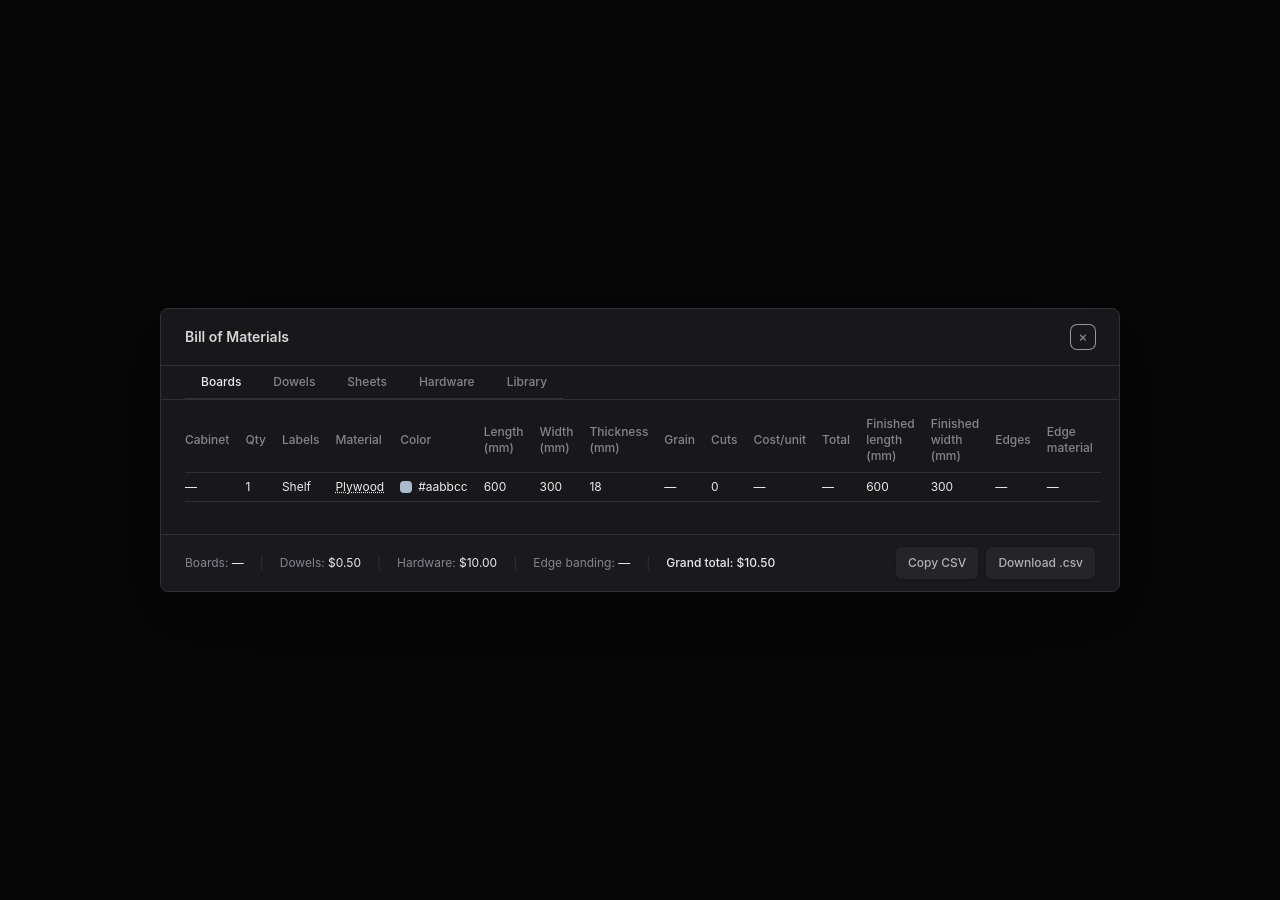
BomModal › merges rates field-level so a library costPerM is not shadowed by a scene costPerM2
Step 1. Click the tab "Dowels" → (294, 383), box [257,366,331,400]
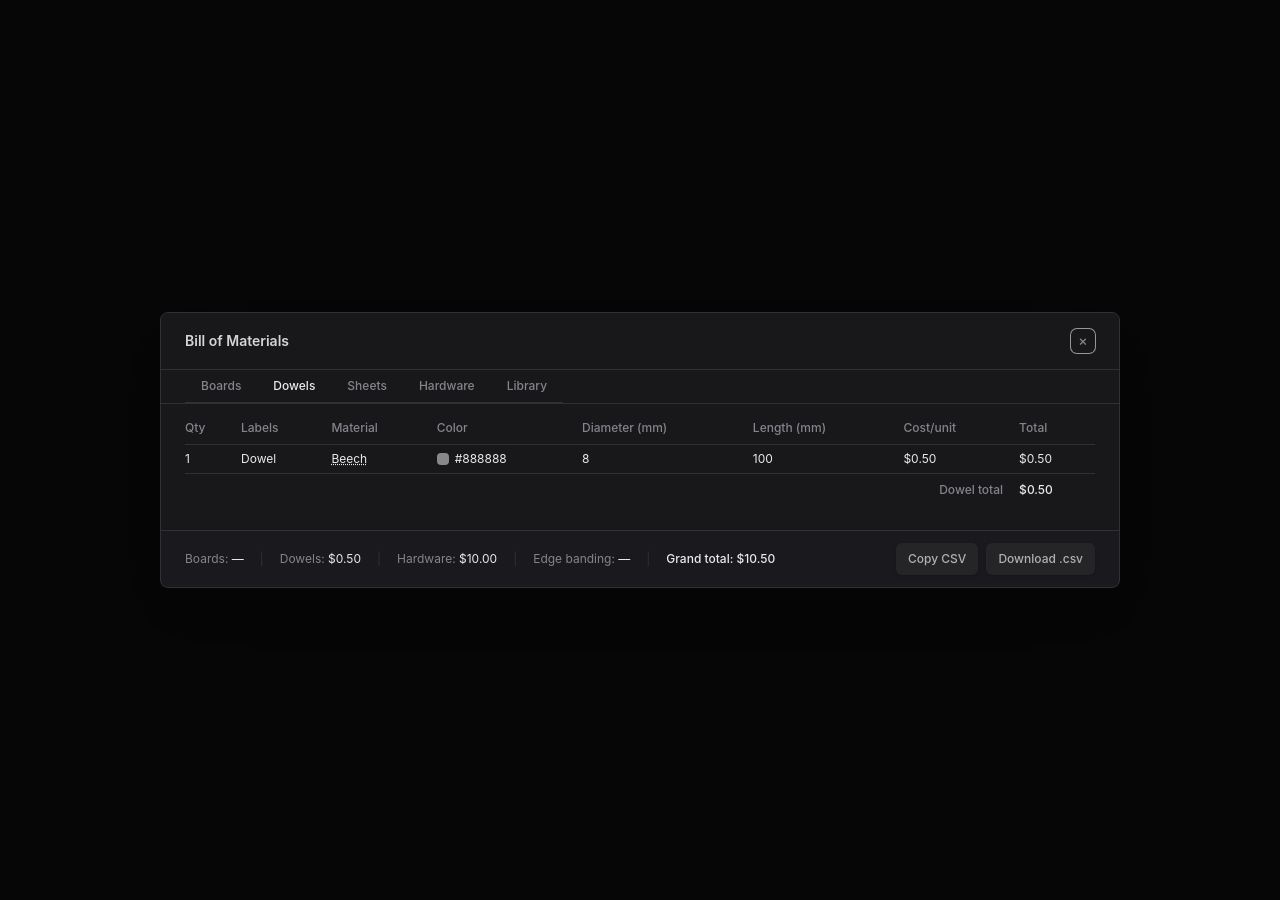
Expected: the 1st text "$0.50" is shown, [895,444,1011,474]
